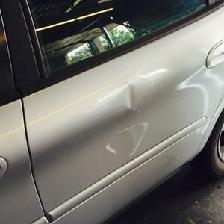dent: (128, 93, 143, 109)
